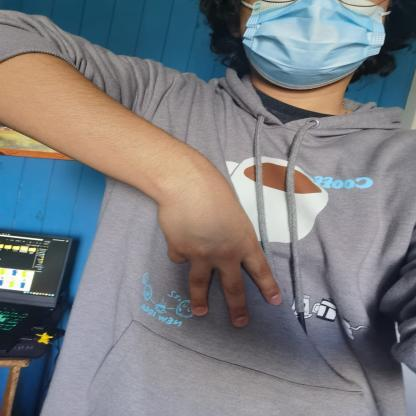M: (137, 188, 302, 338)
